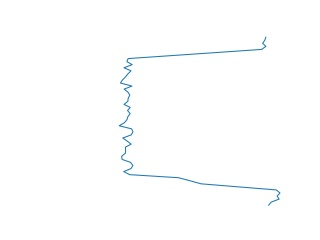distributaryChannelFill: (118, 35, 291, 205)
